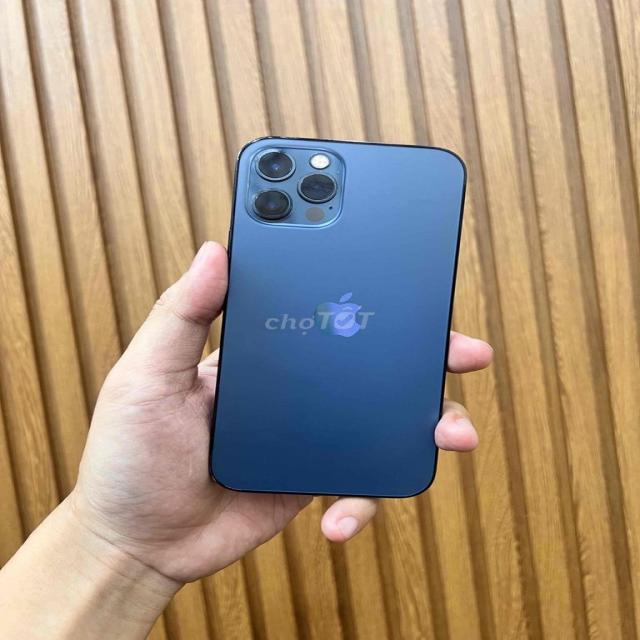gen_12_13: (213, 132, 467, 502)
